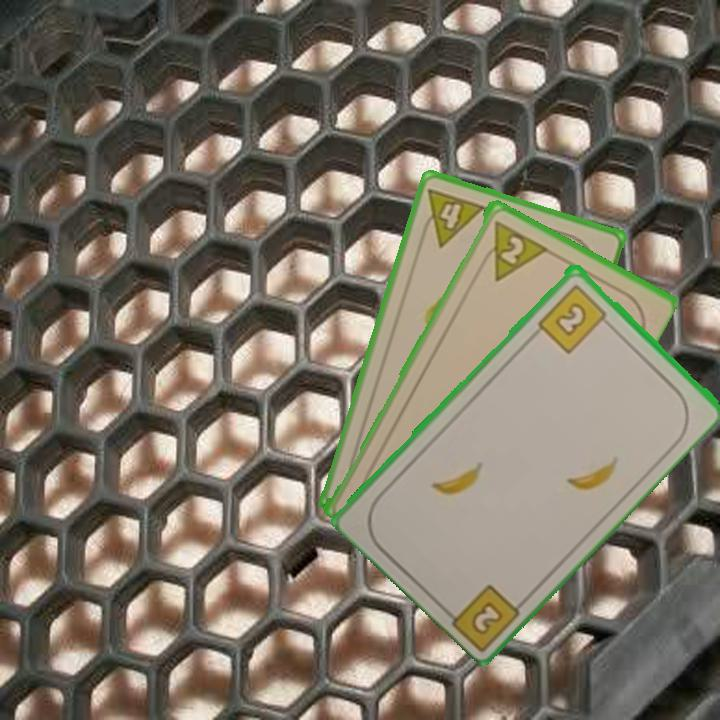2b: (534, 280, 613, 356), (467, 597, 507, 638)
2p: (476, 216, 548, 284)
4p: (415, 184, 488, 250)
